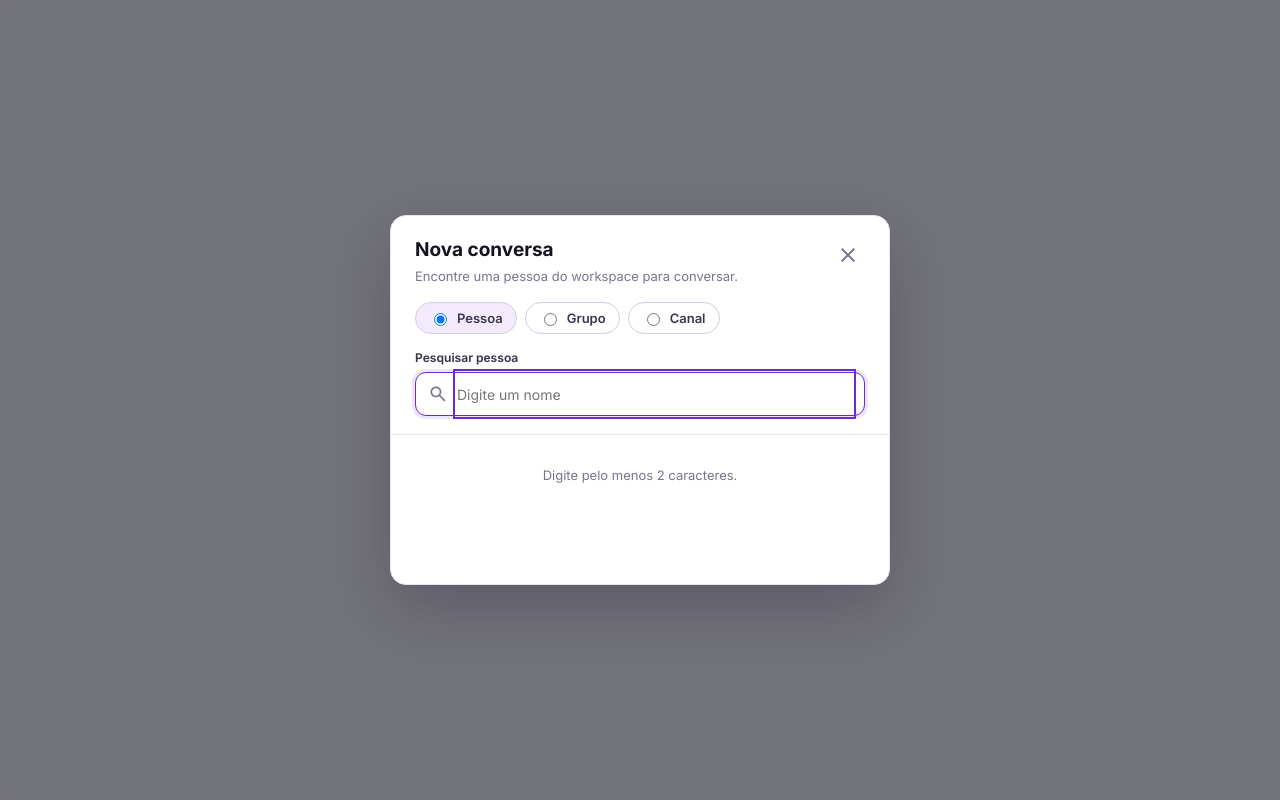
it: NewConversationDialog › maps search status 403 to a stable message
Type "jo" into the search field. click: (654, 394)
box: [457, 373, 852, 415]
Wait 150 ms
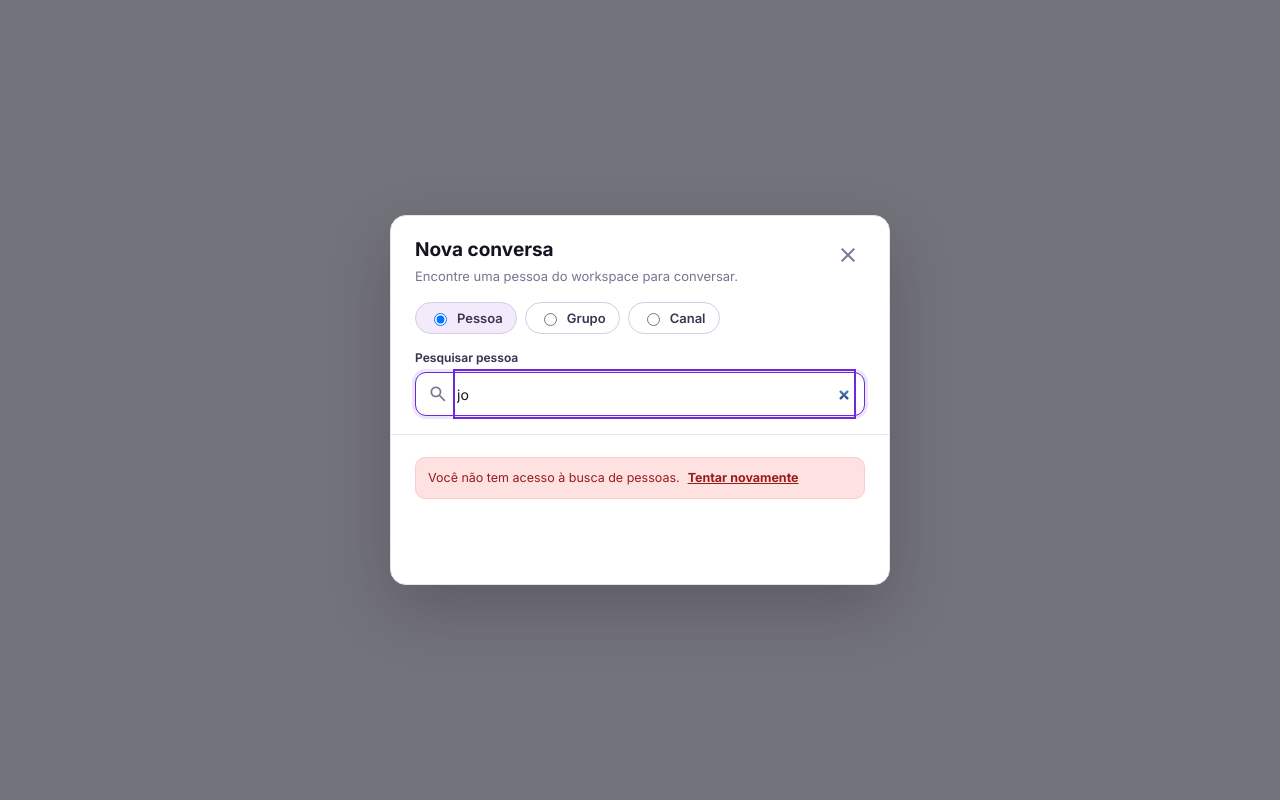
expect the message shows "Você não tem acesso à busca de pessoas.": met, box [428, 470, 680, 485]
